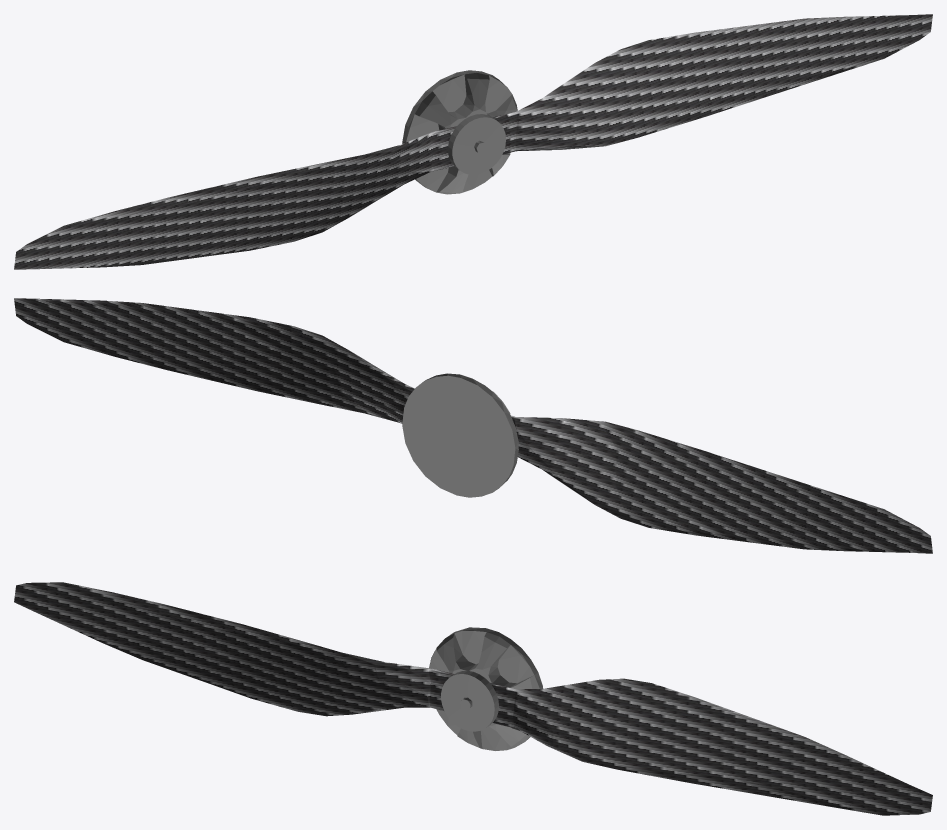
File: x500_prop_ccw.obj
The picture shows the model from 3 angles, top to bottom: view 1: azimuth 30°, elevation 25°; view 2: azimuth 150°, elevation 25°; view 3: azimuth 330°, elevation 25°; orthographic projection.
Parts seen in each view (by area): view 1: carbon_light, grey; view 2: carbon_light, grey; view 3: carbon_light, grey.
Part boxes in pixels (<box>): carbon_light: <box>14,14,932,269</box>; grey: <box>402,70,517,194</box>; carbon_light: <box>14,298,932,553</box>; grey: <box>402,373,518,497</box>; carbon_light: <box>14,582,932,815</box>; grey: <box>429,627,542,750</box>.
Size of the model in its own units: 0.3379 by 0.0417 by 0.0167.
2 materials, 1 textured.
